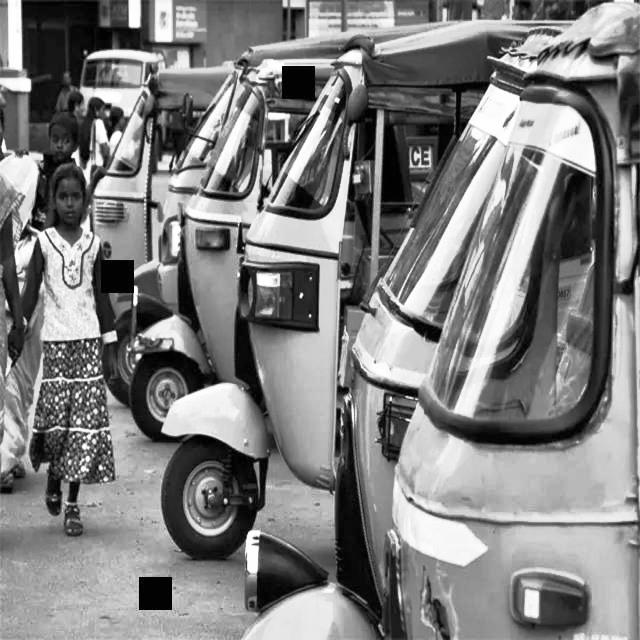Auto-Rickshaw: (170, 28, 478, 556), (239, 67, 518, 624), (381, 41, 639, 640), (148, 45, 270, 451), (86, 19, 215, 351)
